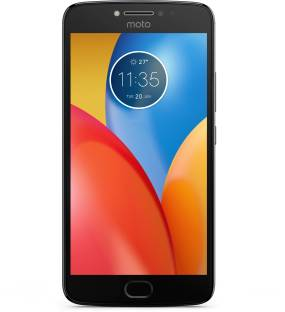mobile: (59, 3, 225, 304)
